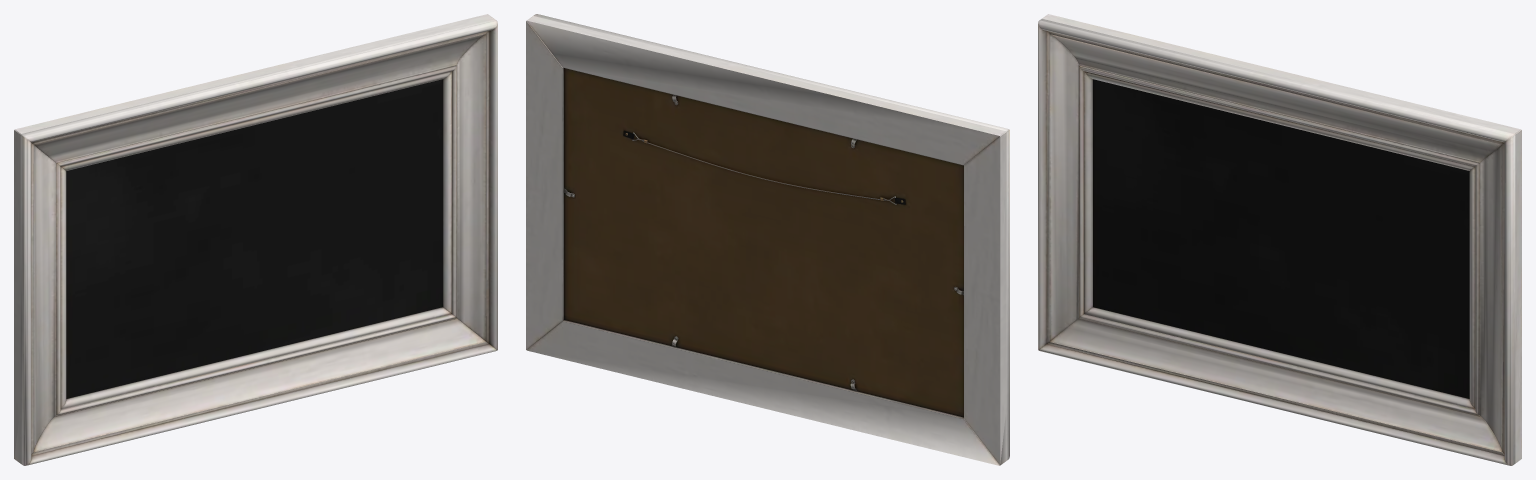
File: hanging_picture_frame_02.glb
3 views of the same model, side by side, from view 1: azimuth 30°, elevation 25°; view 2: azimuth 150°, elevation 25°; view 3: azimuth 330°, elevation 25° (orthographic).
Parts seen in each view (by area): view 1: hanging_picture_frame_02; view 2: hanging_picture_frame_02; view 3: hanging_picture_frame_02.
Part boxes in pixels (bbox=[...]): hanging_picture_frame_02: bbox=[14, 14, 497, 465]; hanging_picture_frame_02: bbox=[526, 14, 1009, 465]; hanging_picture_frame_02: bbox=[1038, 14, 1521, 465].
Bounding box in the file's own units: 0.7518 × 0.5 × 0.0331.
Materials: 3 (3 with a texture image).
